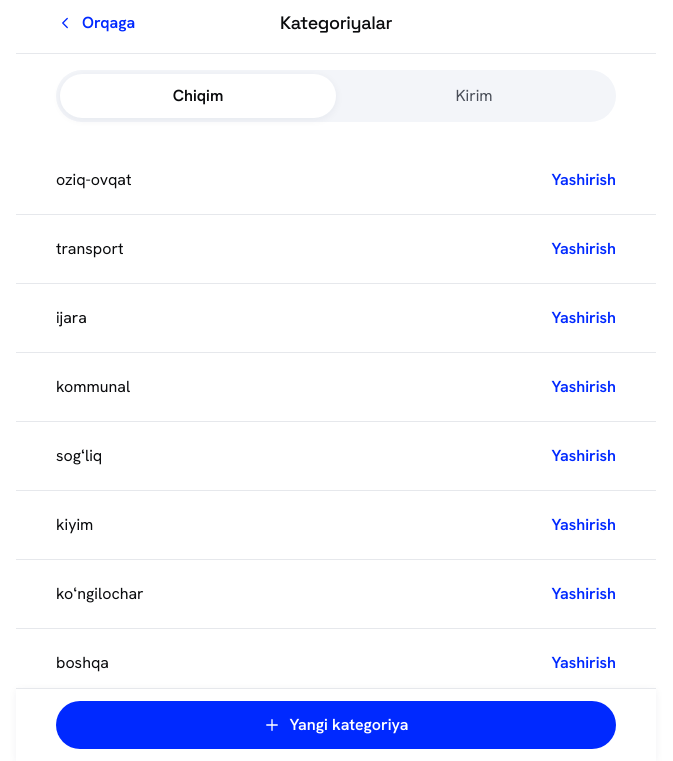
Test case: xato holatlari — matnlar dizayn faylidan (mezon 14a, 14b) › yashirilgan nom: yoʻnaltiruvchi matn chiqadi (0051)
Click the button named "＋ Yangi kategoriya" at point(336, 725), box [56,701,616,749]
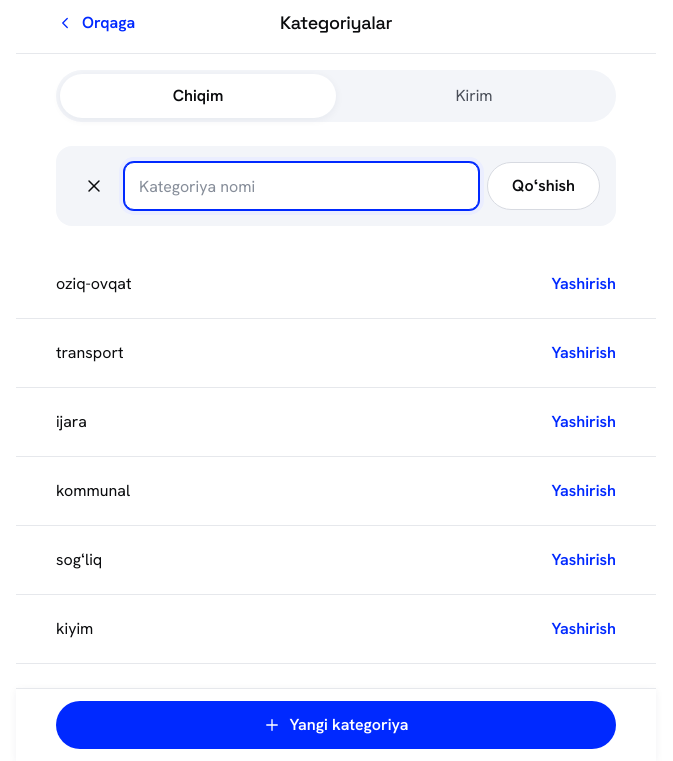
Type "kiyim" into the field labelled "Kategoriya nomi" at point(302, 186), box [124,162,479,210]
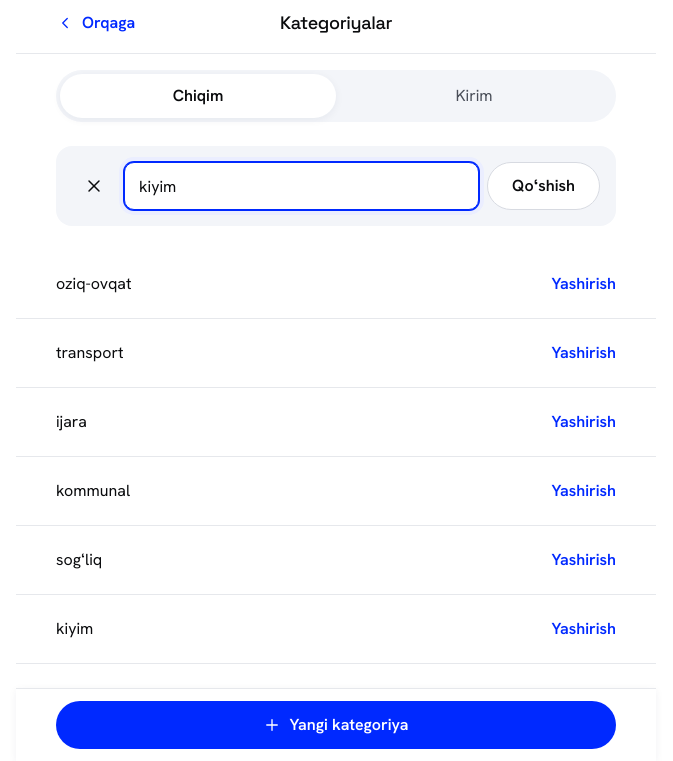
Click the button "Qoʻshish" at point(544, 186), box [487,162,600,210]
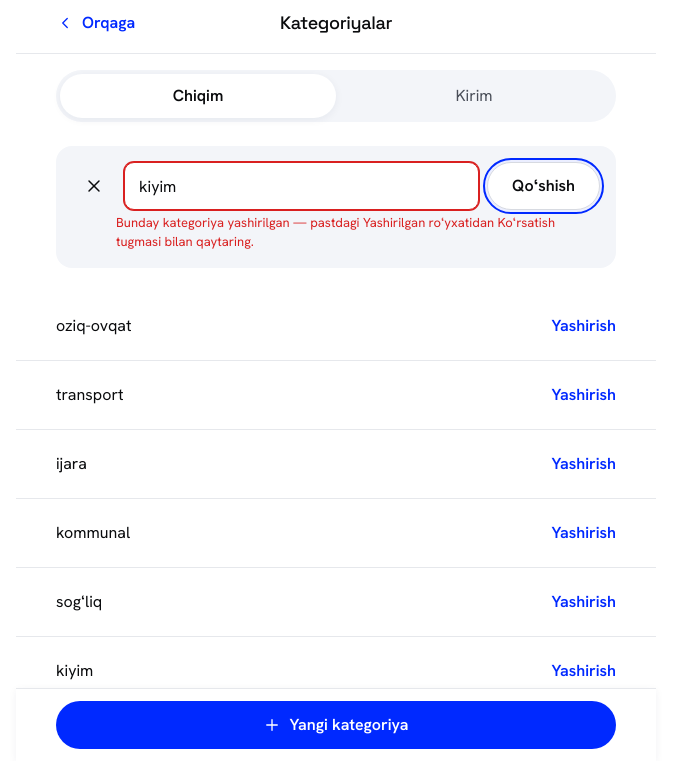
Now the text "Bunday kategoriya yashirilgan — pastdagi Yashirilgan roʻyxatidan Koʻrsatish tugmasi bilan qaytaring." is shown, box [116,214,555,250]
